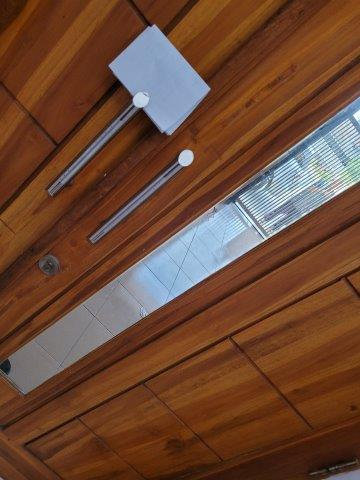kertas: (108, 26, 211, 137)
